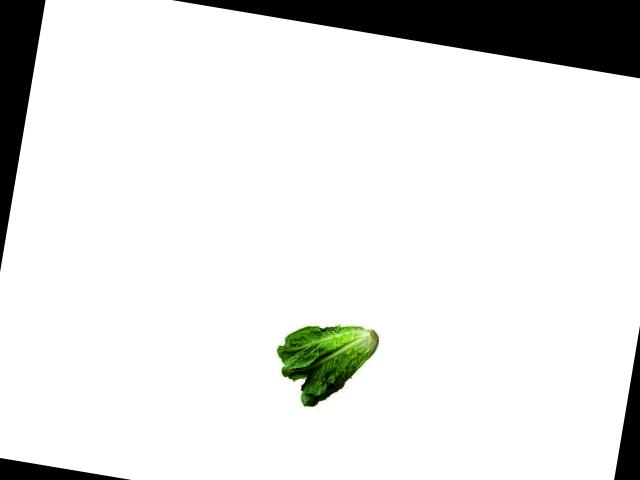lettuce: (268, 309, 378, 421)
